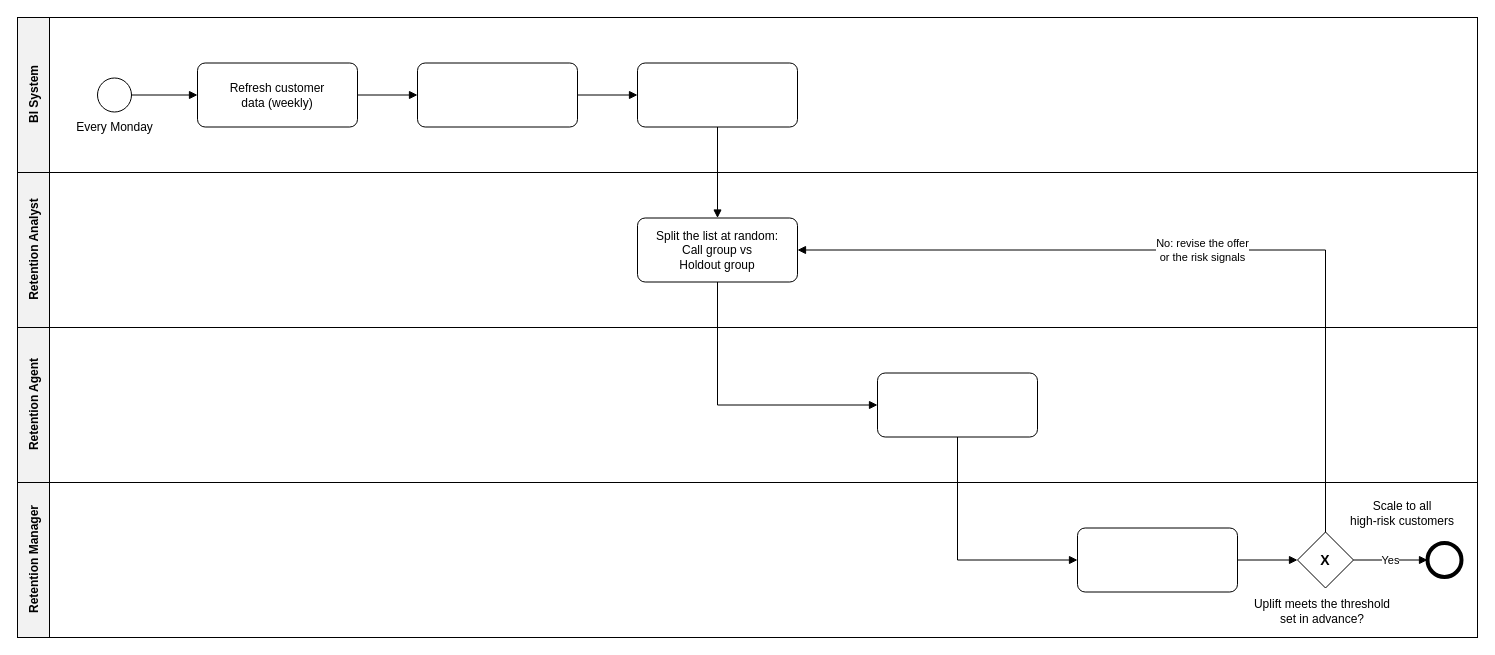
The diagram is 1495 pixels wide and 655 high, and some of its shapes have lost their labels. The centre of each missing label's shape, as x and y in pixels:
"After 90 days compare retention: Call vs Holdout" belongs at point (1157, 559).
"Call the Call group, offer a retention action, log the outcome" belongs at point (957, 404).
"Flag High Risk: active, 3+ tickets and 30+ days inactive" belongs at point (497, 94).
"Publish ranked call list on the dashboard" belongs at point (717, 94).
